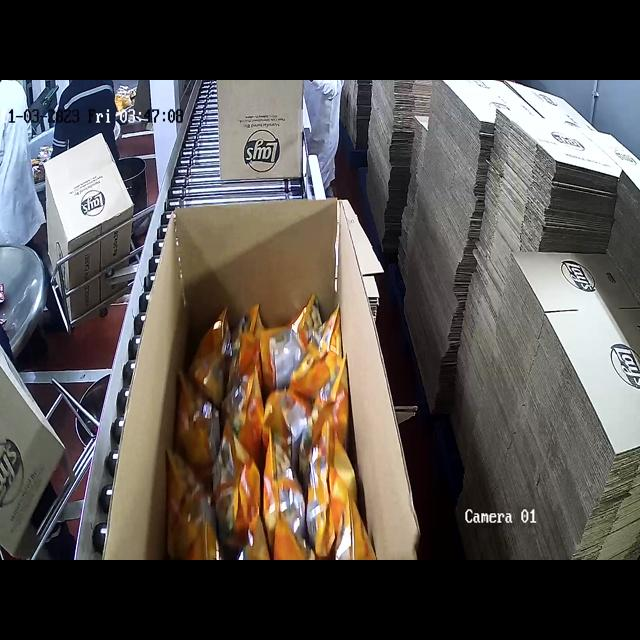cheese: (184, 303, 351, 560)
